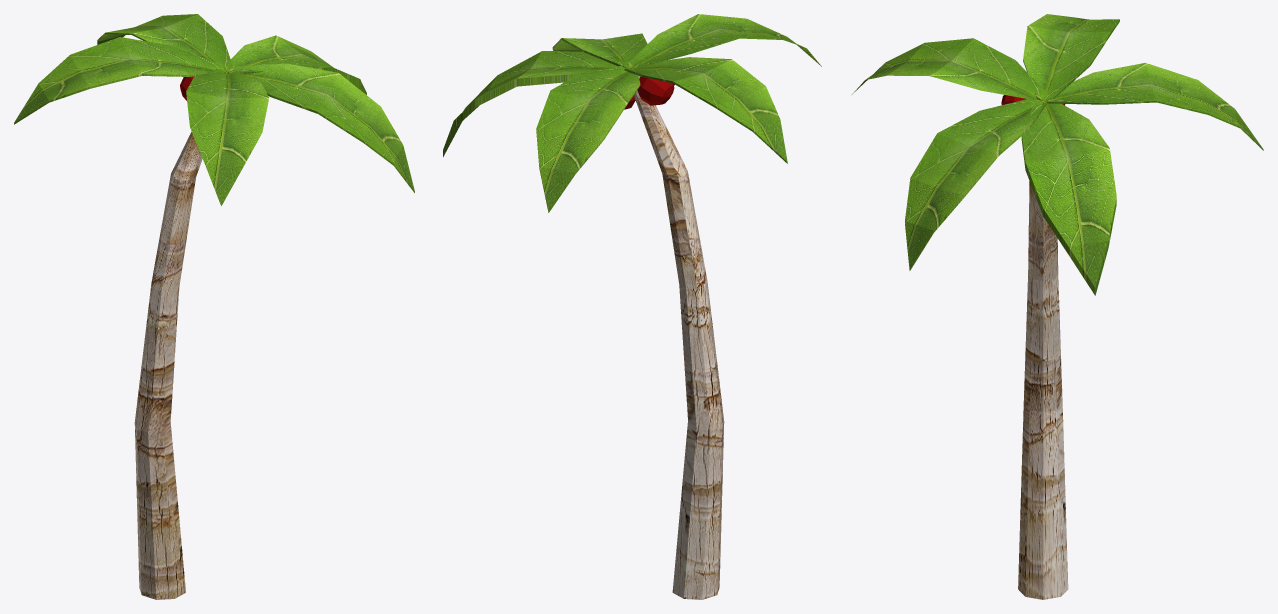
Rendered from coco 1.fbx.
The picture shows the model from 3 angles, left to right: view 1: azimuth 30°, elevation 25°; view 2: azimuth 150°, elevation 25°; view 3: azimuth 270°, elevation 25°; orthographic projection. The views are drawn at different scales.
Visible parts, largest first — view 1: polySurface53; view 2: polySurface53; view 3: polySurface53.
Boxes of the visible parts, left/top/right/bottom form: polySurface53: left=14, top=14, right=414, bottom=599; polySurface53: left=443, top=14, right=821, bottom=599; polySurface53: left=852, top=14, right=1263, bottom=599.
Bounding box in the file's own units: 12.2 × 17.92 × 12.12.
